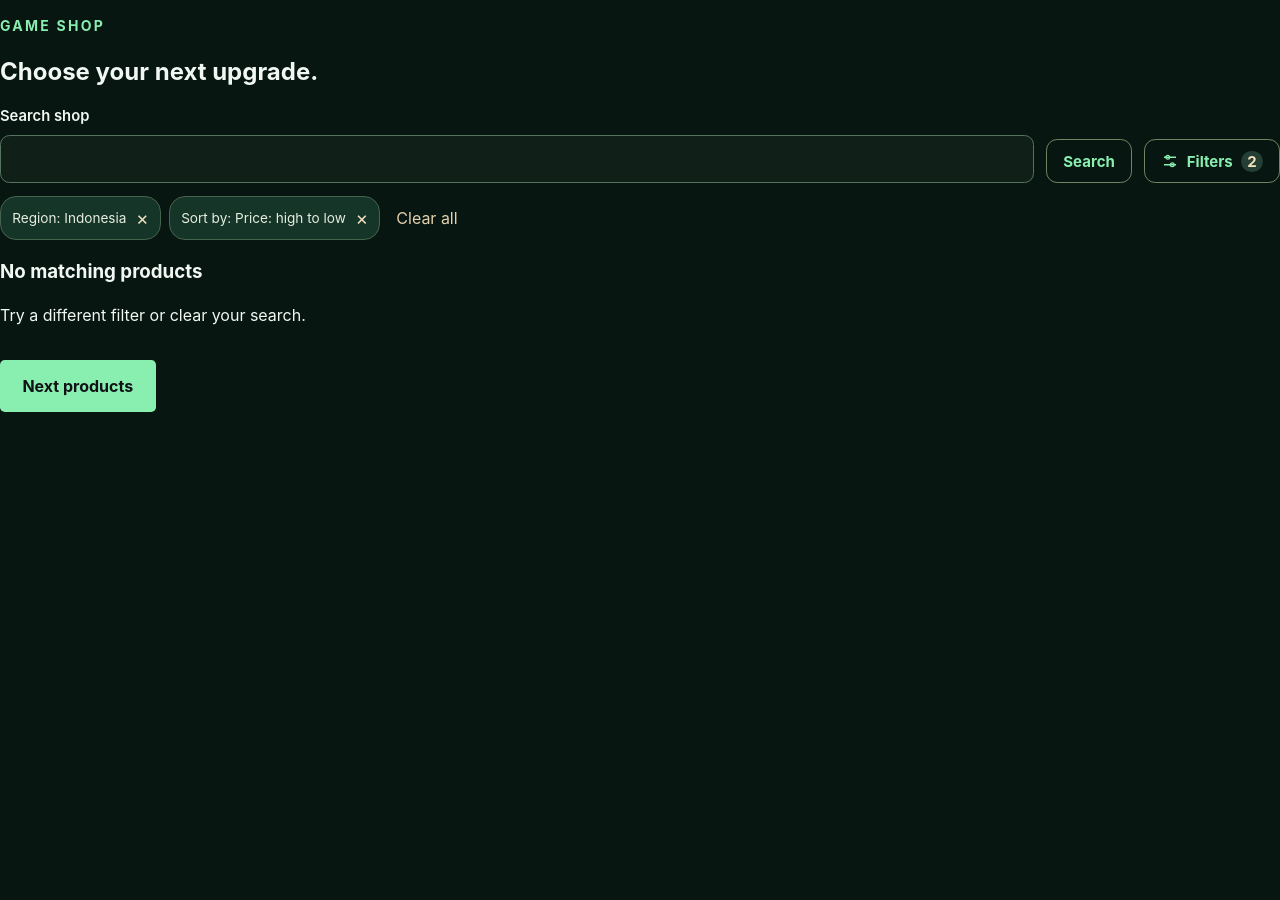
Test: restores price_desc from the URL and clears to the default
Click the button "Filters 2": (1212,162) [1144,140,1279,184]
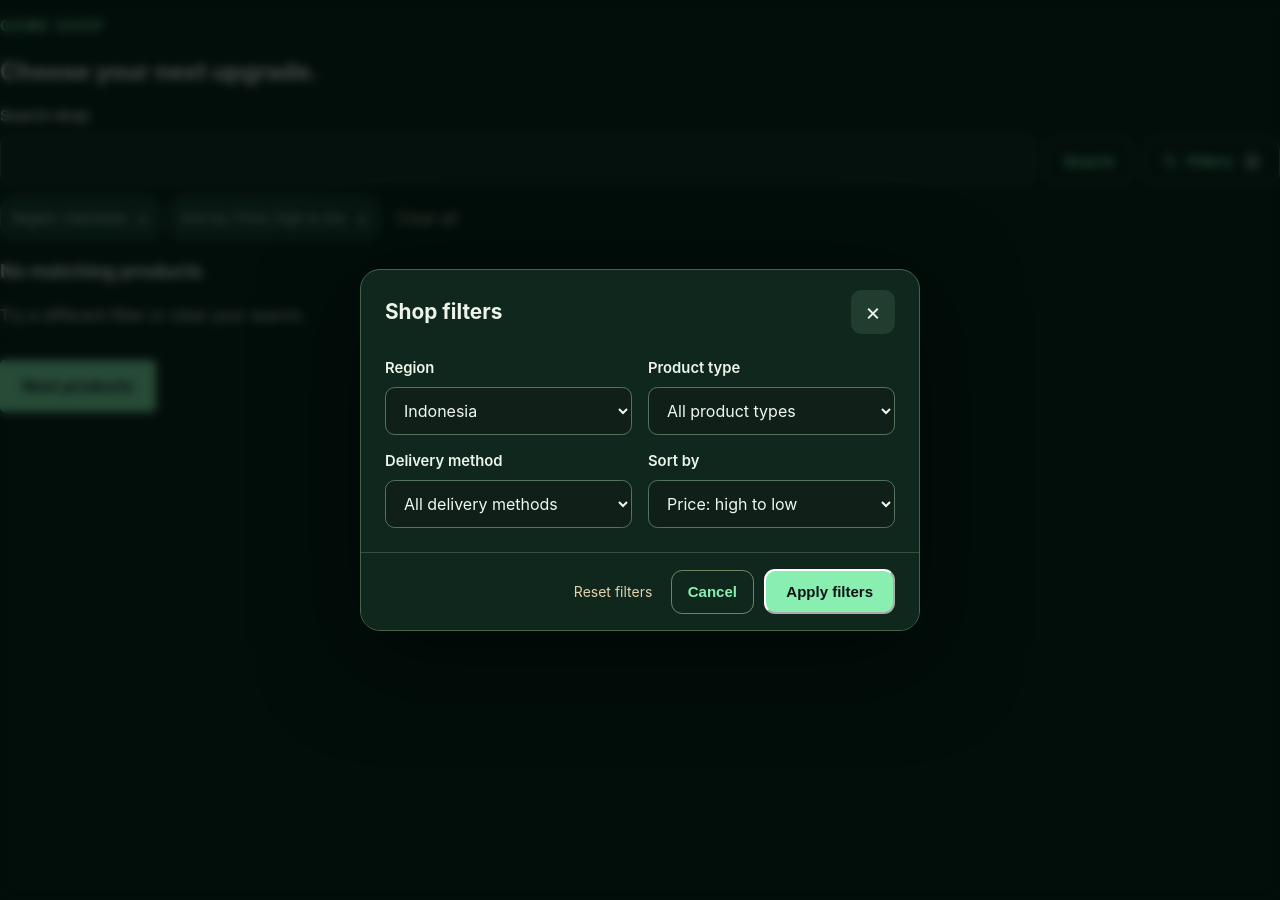
Now the dropdown labelled "Sort by" shows "Price: high to low", box [648,480,895,528]
Click the button "Cancel": (712,592) [671,570,754,614]
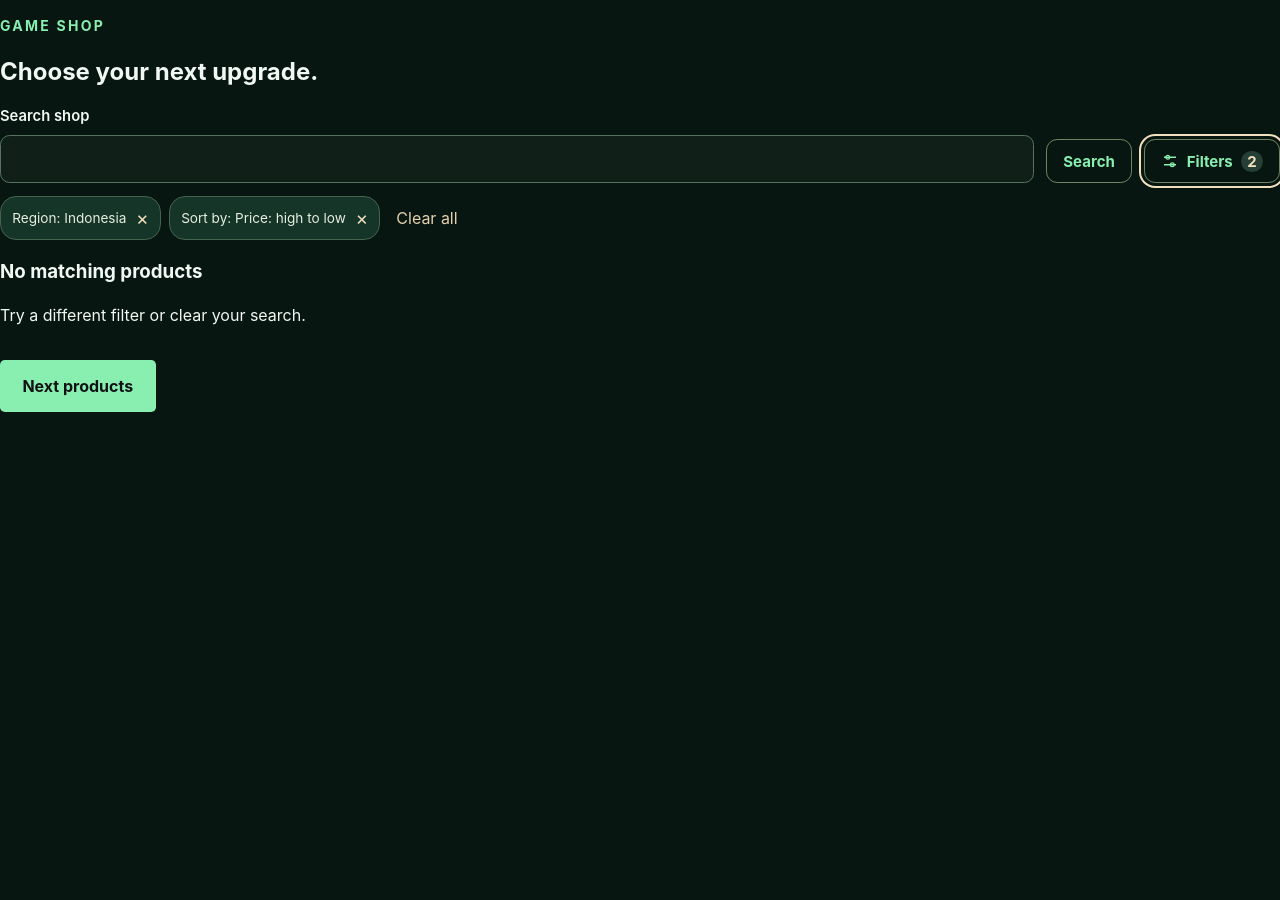
Click the button "Clear all": (427,218) [388,196,466,240]
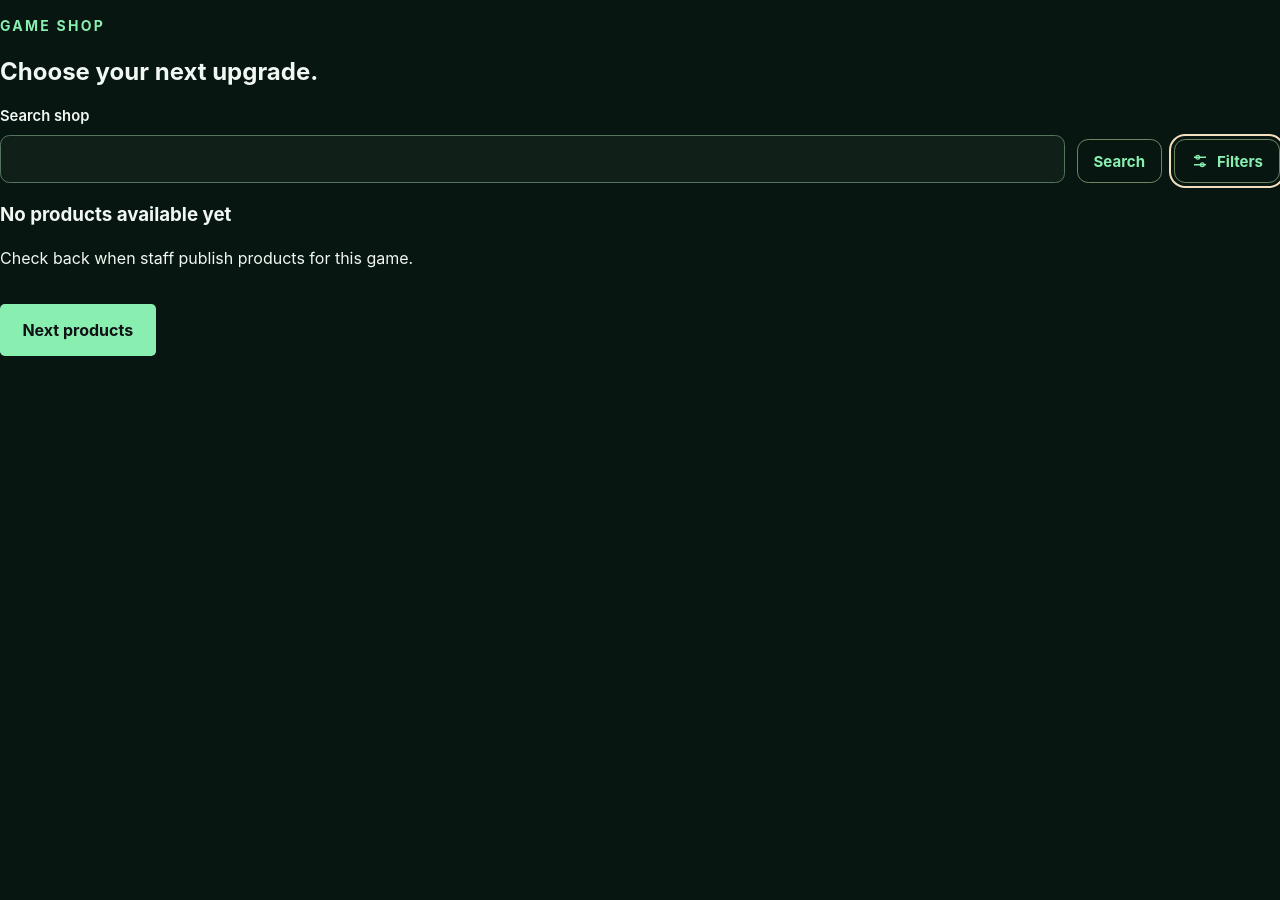
Click the button "Filters": (1227,162) [1174,140,1279,184]
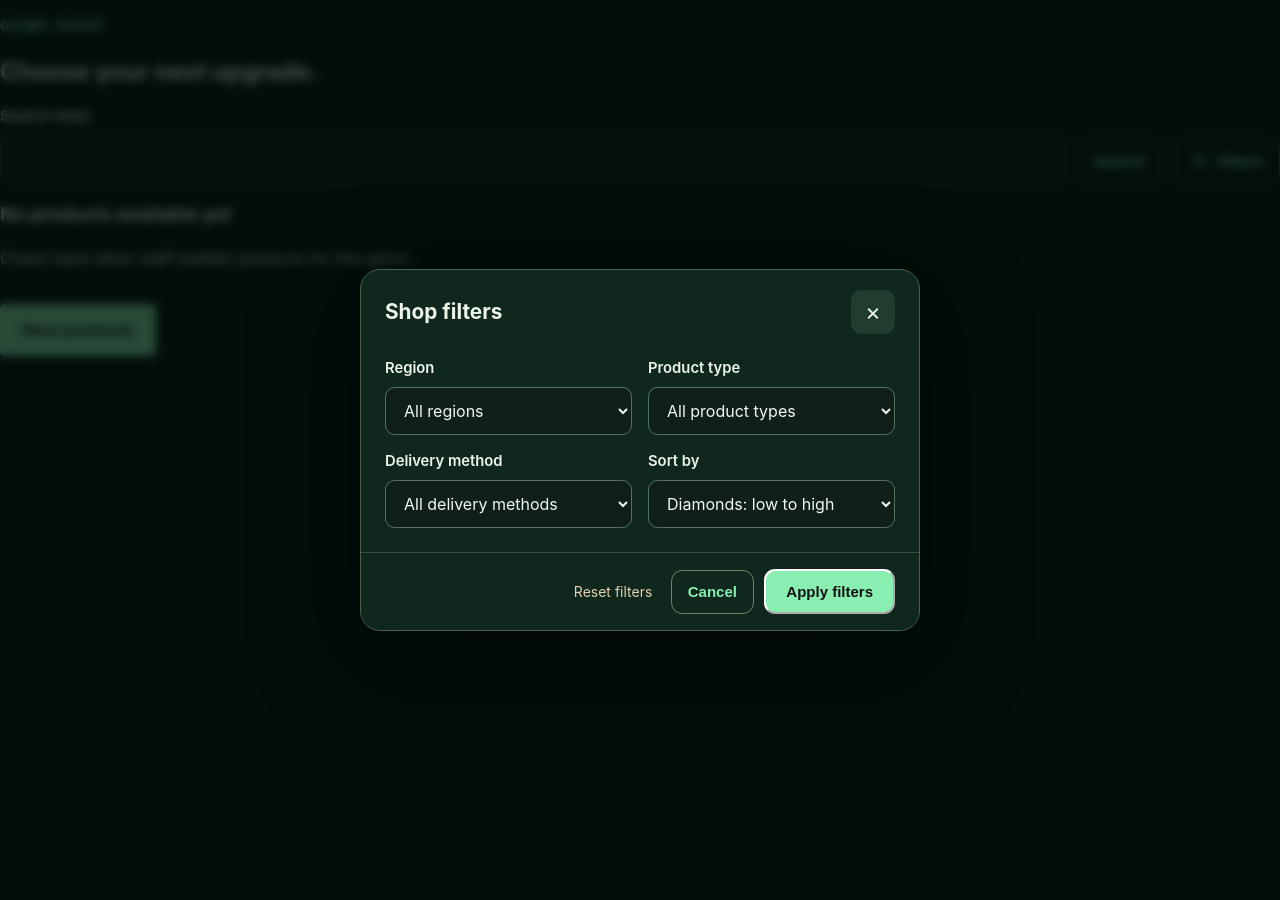
Now the dropdown labelled "Sort by" shows "Diamonds: low to high", box [648,480,895,528]
Now the dropdown labelled "Region" shows "All regions", box [385,387,632,435]
